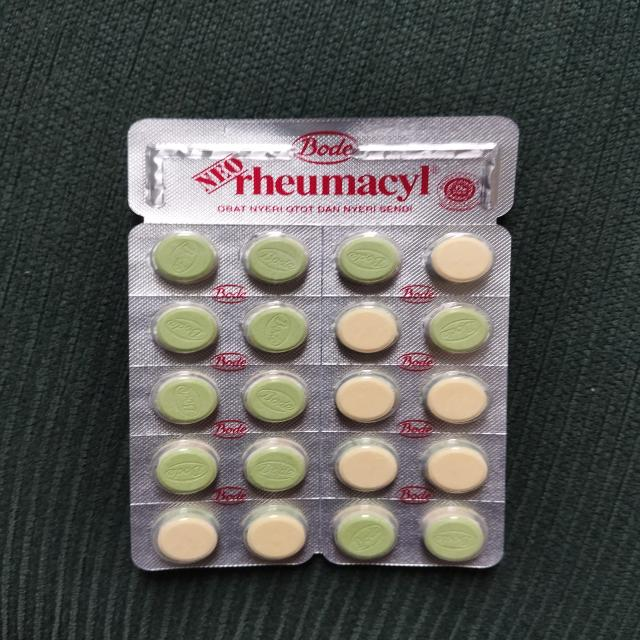B3: (125, 115, 519, 571)
